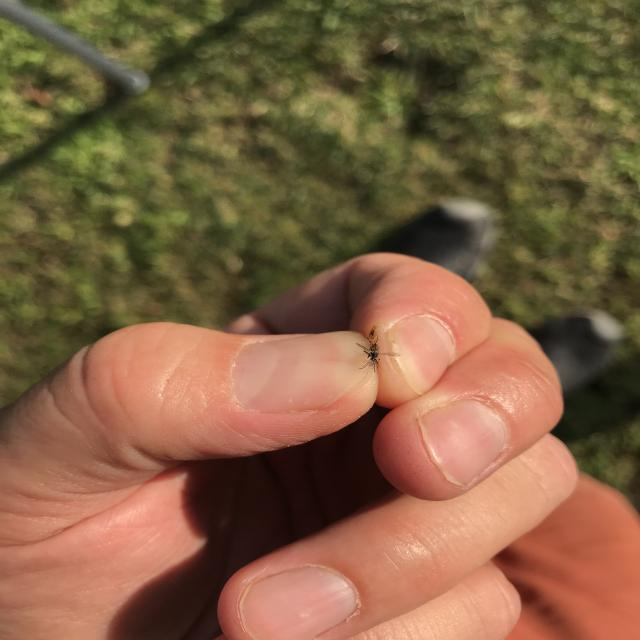albopictus: (336, 324, 407, 384)
